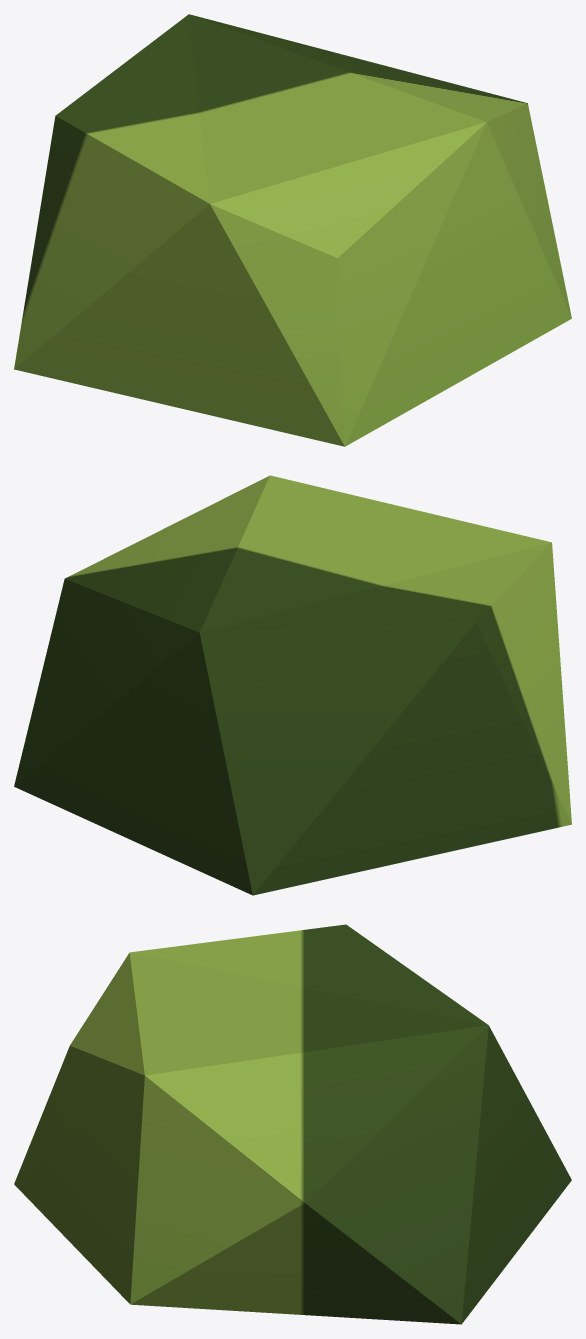
Rendered from Rock_12.fbx.
3 views of the same model, one above another, from view 1: azimuth 30°, elevation 25°; view 2: azimuth 150°, elevation 25°; view 3: azimuth 270°, elevation 25° (orthographic). The views are drawn at different scales.
Visible parts, largest first — view 1: Rock_12; view 2: Rock_12; view 3: Rock_12.
Boxes of the visible parts, x1,y1,x2,y2 form: Rock_12: (14, 14, 571, 446); Rock_12: (14, 475, 571, 895); Rock_12: (14, 924, 571, 1324).
Size of the model in its own units: 1.59 by 0.7726 by 1.59.
